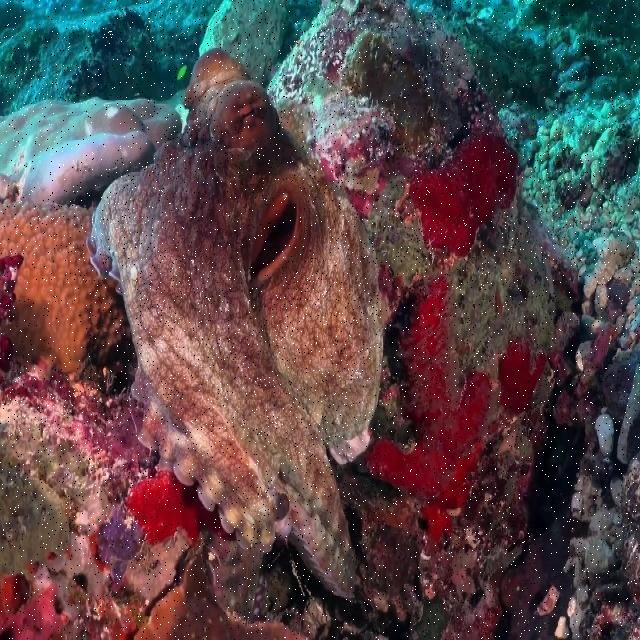reefs: (86, 48, 383, 604), (0, 198, 131, 374), (0, 97, 182, 202)
sea-floor: (0, 2, 639, 639)
